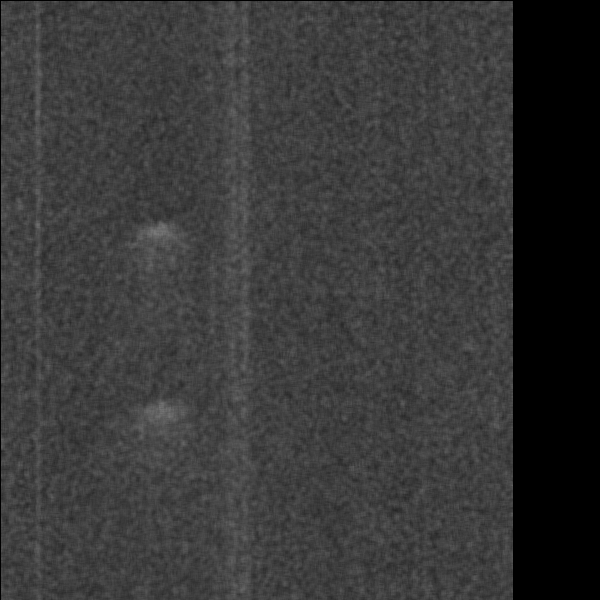spark: (156, 425, 243, 510), (364, 62, 483, 120), (103, 556, 166, 596), (251, 237, 284, 266)
